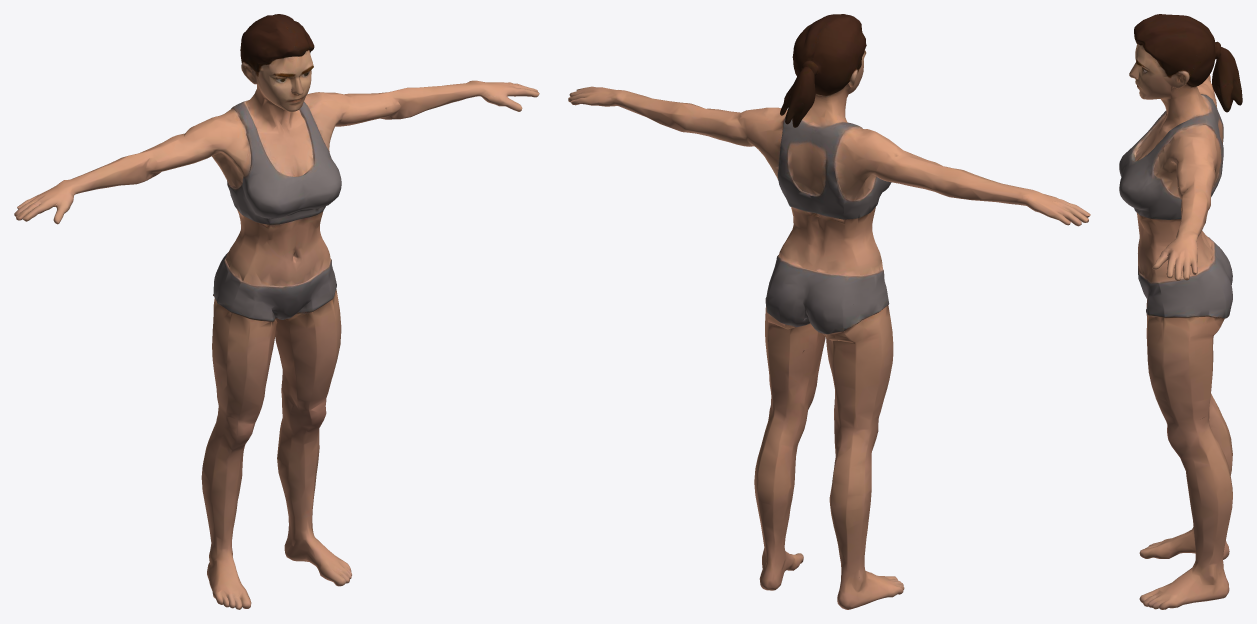
The model's file is body_base_female_b_idle.glb.
The picture shows the model from 3 angles, left to right: view 1: azimuth 30°, elevation 25°; view 2: azimuth 150°, elevation 25°; view 3: azimuth 270°, elevation 25°; orthographic projection.
Visible parts, largest first — view 1: tripo_node_ace96808-595d-424c-bf9f-44969e25ef17; view 2: tripo_node_ace96808-595d-424c-bf9f-44969e25ef17; view 3: tripo_node_ace96808-595d-424c-bf9f-44969e25ef17.
Part boxes in pixels (x1=…): tripo_node_ace96808-595d-424c-bf9f-44969e25ef17: x1=14, y1=14, x2=539, y2=609; tripo_node_ace96808-595d-424c-bf9f-44969e25ef17: x1=568, y1=14, x2=1090, y2=609; tripo_node_ace96808-595d-424c-bf9f-44969e25ef17: x1=1119, y1=14, x2=1242, y2=609.
Size of the model in its own units: 1.61 by 1.68 by 0.3337.
Materials: 1 (1 with a texture image).
